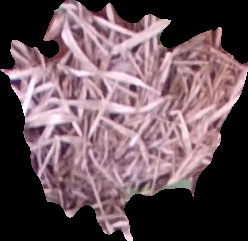soil: (3, 5, 244, 239)
